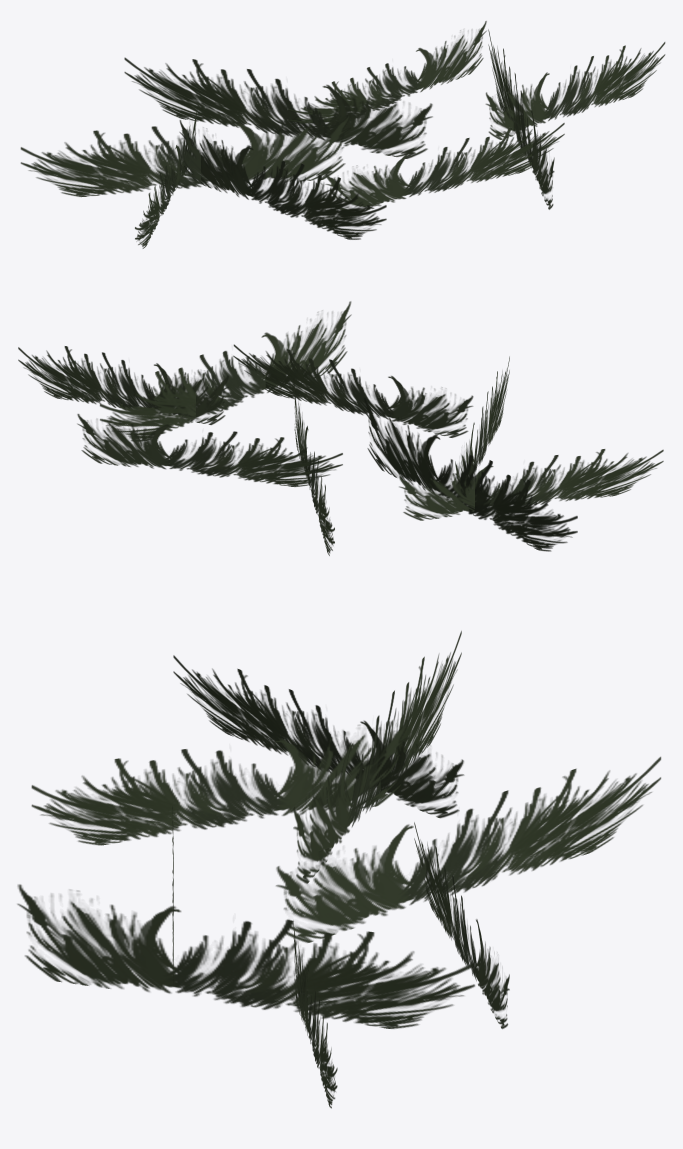
The model's file is grass01_04.glb.
3 renders of one model, top to bottom at view 1: azimuth 30°, elevation 25°; view 2: azimuth 150°, elevation 25°; view 3: azimuth 270°, elevation 25°, orthographic. The views are drawn at different scales.
Parts seen in each view (by area): view 1: grass01_cluster04; view 2: grass01_cluster04; view 3: grass01_cluster04.
Part boxes in pixels (x1,y1,x2,y2): grass01_cluster04: (20, 21, 665, 248); grass01_cluster04: (18, 301, 663, 555); grass01_cluster04: (17, 630, 661, 1108).
Size of the model in its own units: 8.67 by 0.89 by 5.58.
1 material, 1 textured.
